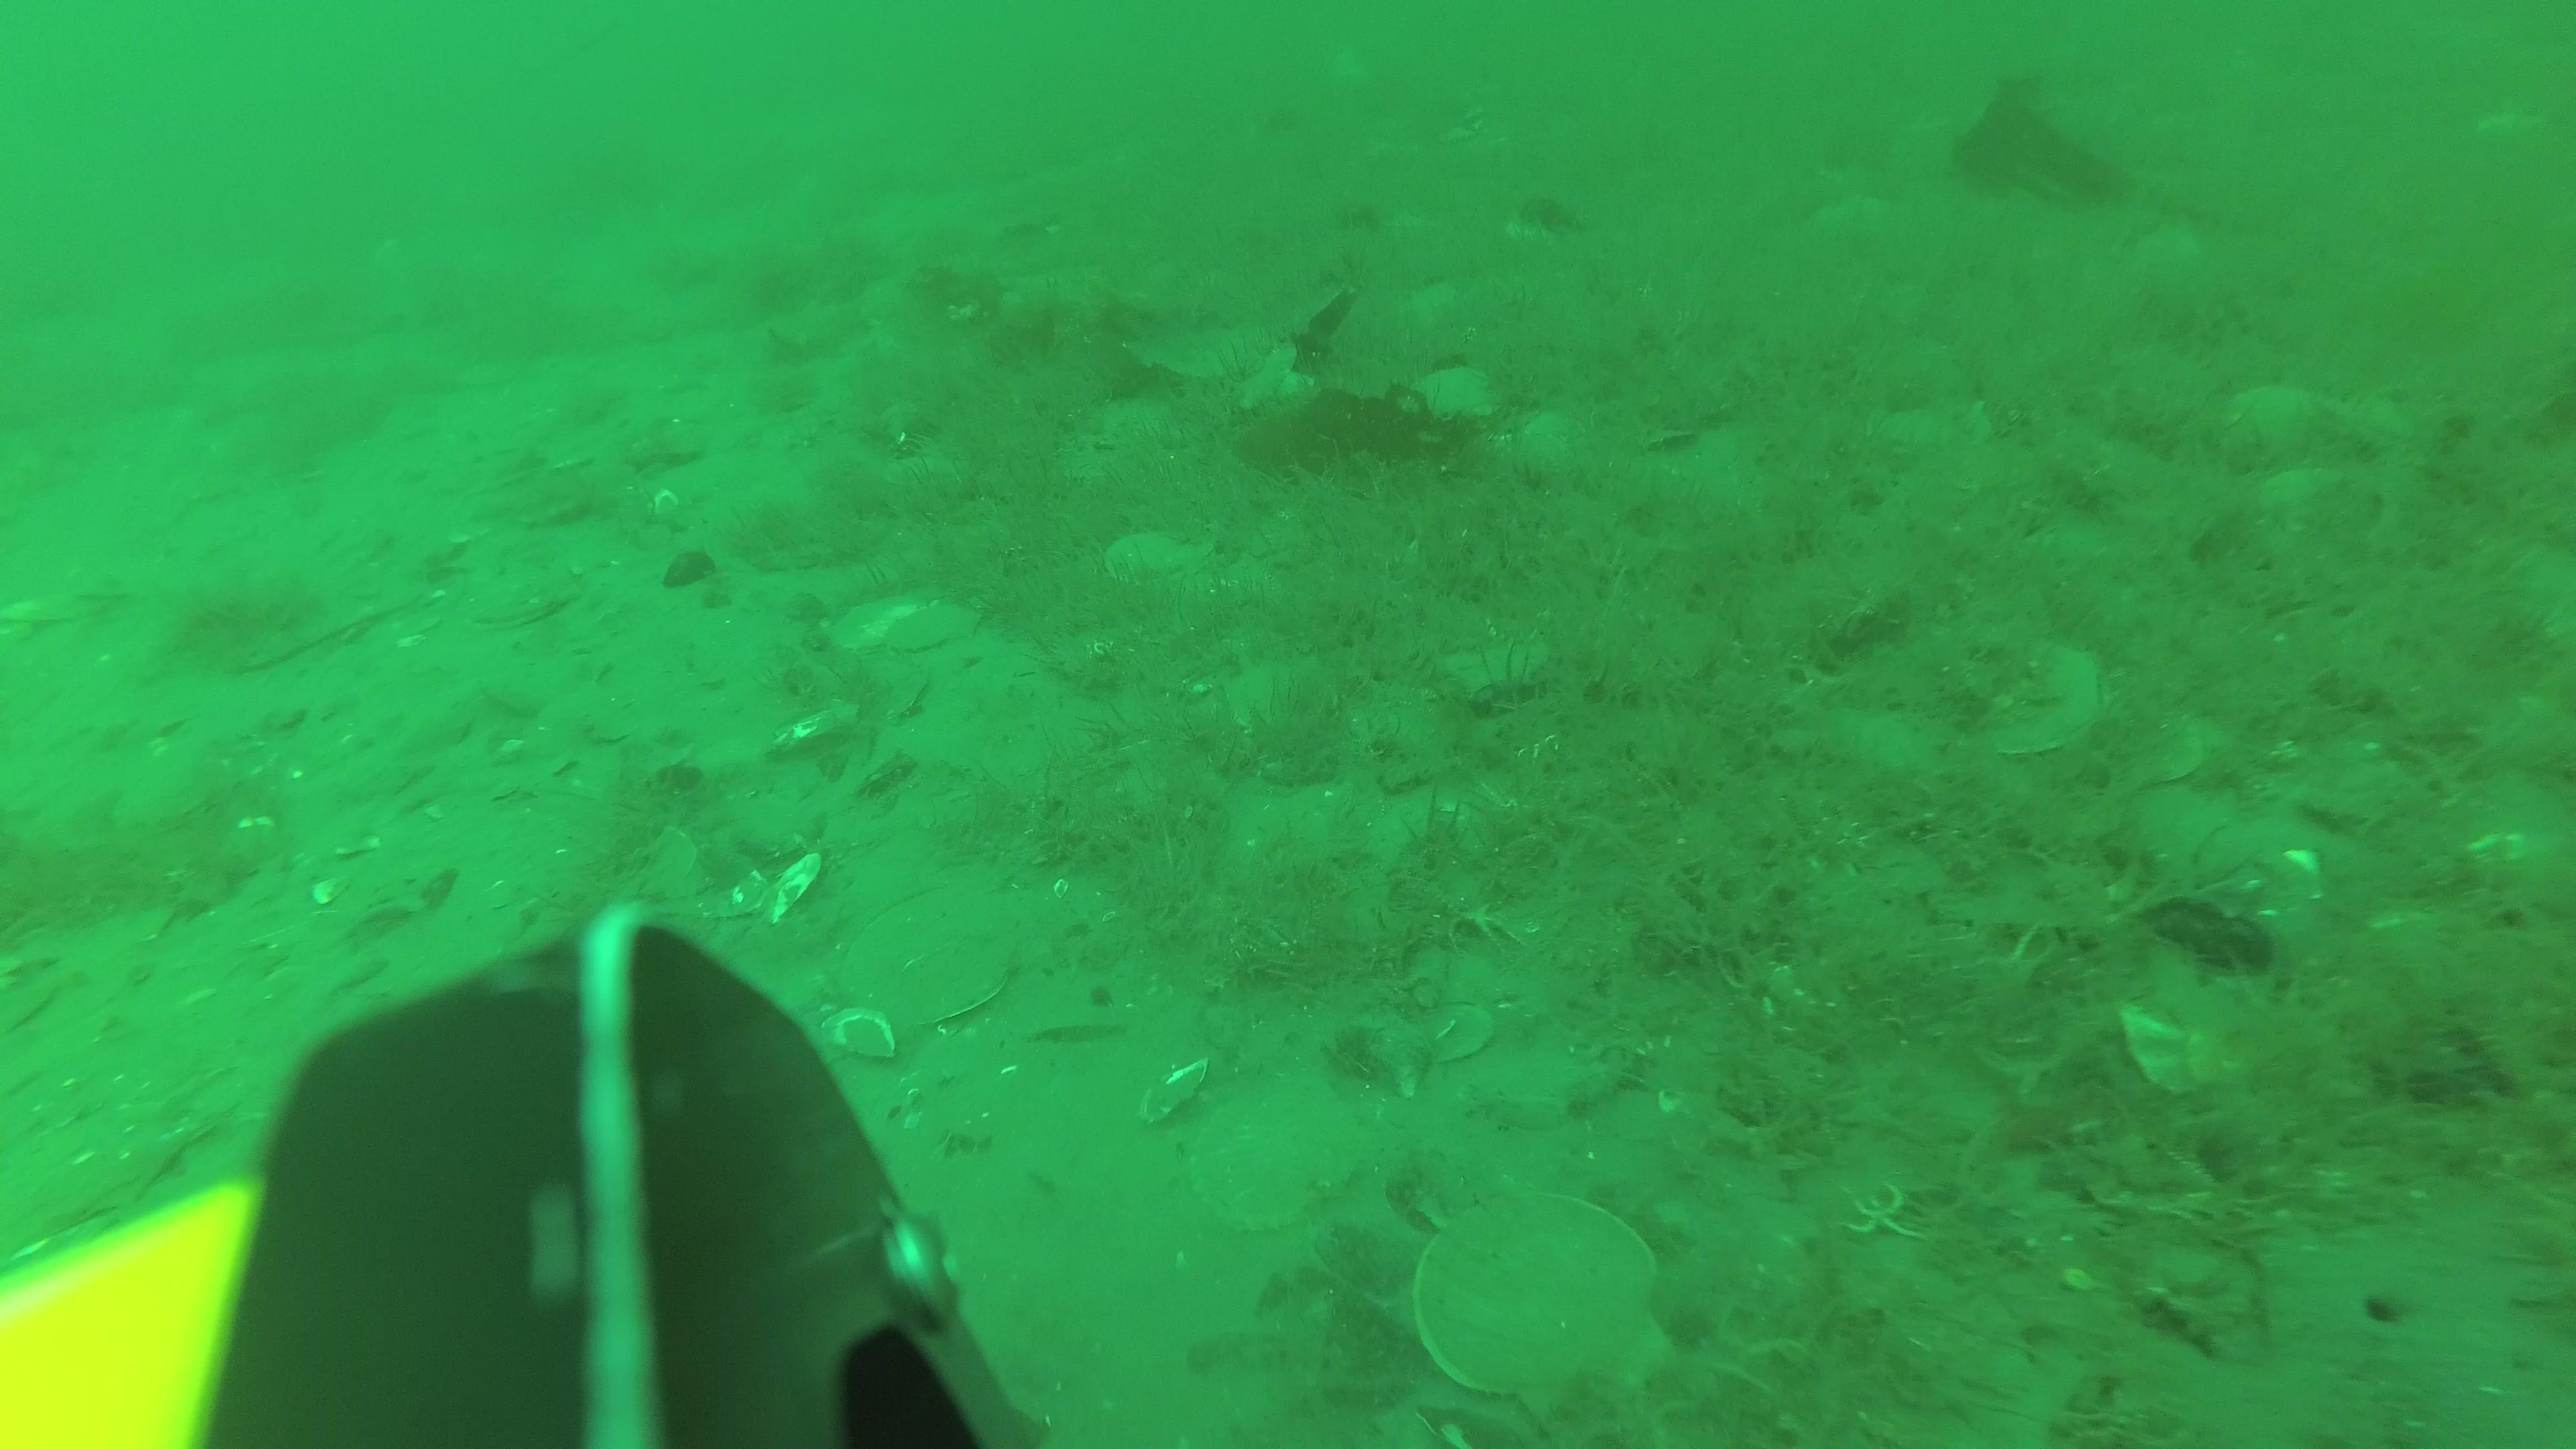scallop: (1419, 1189, 1674, 1433), (1196, 1070, 1376, 1233), (840, 885, 1021, 1031), (1982, 640, 2102, 757), (835, 596, 978, 658), (467, 564, 586, 632), (1108, 527, 1219, 589), (1403, 364, 1500, 423)
